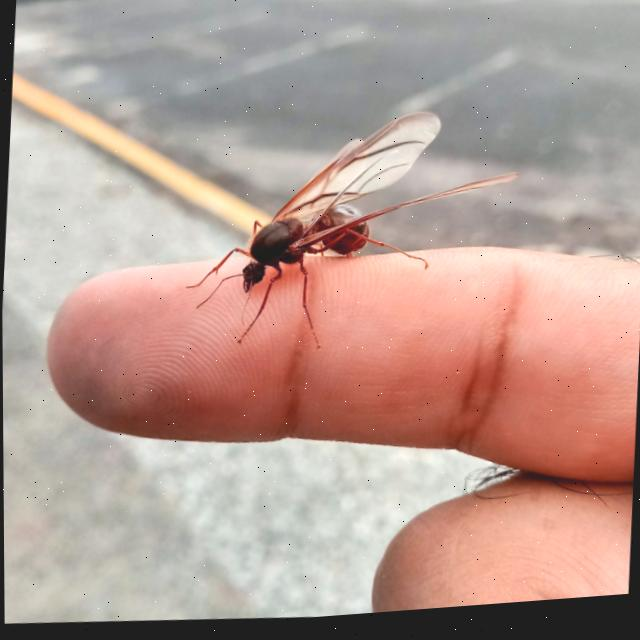Alive-Male-Alate: (181, 100, 524, 374)
